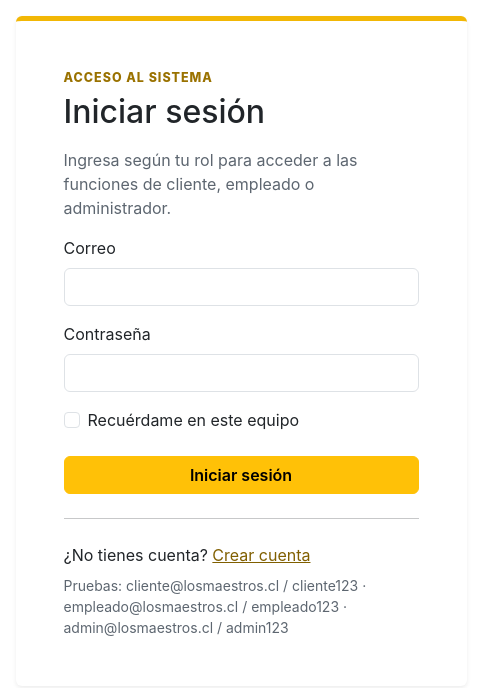
Scenario: Integrante 2 - Login › 14. bloquea credenciales inválidas y muestra el error entregado por la sesión
Type "cliente@losmaestros.cl" into the field labelled "Correo".
click(241, 287); type("cliente@losmaestros.cl")  # box [64,268,418,306]
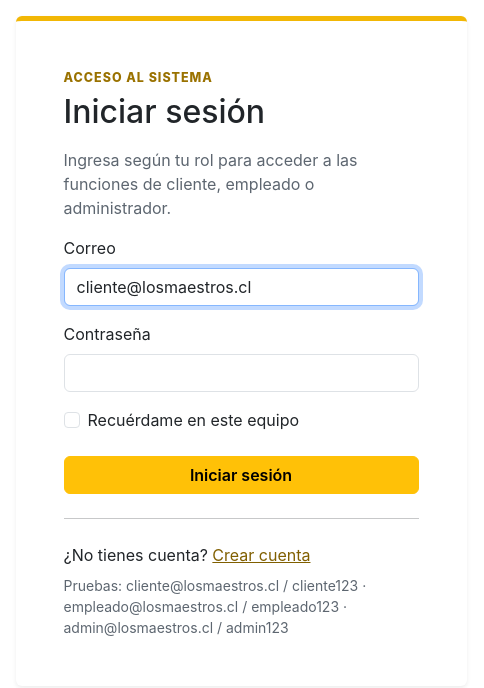
Type "incorrecta" into the password field labelled "Contraseña".
click(241, 373); type("incorrecta")  # box [64,354,418,392]
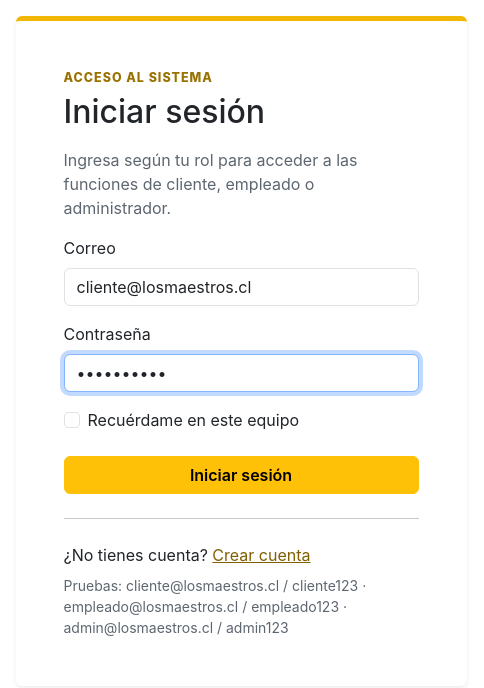
Click the button "Iniciar sesión".
click(241, 475)  # box [64,456,418,494]
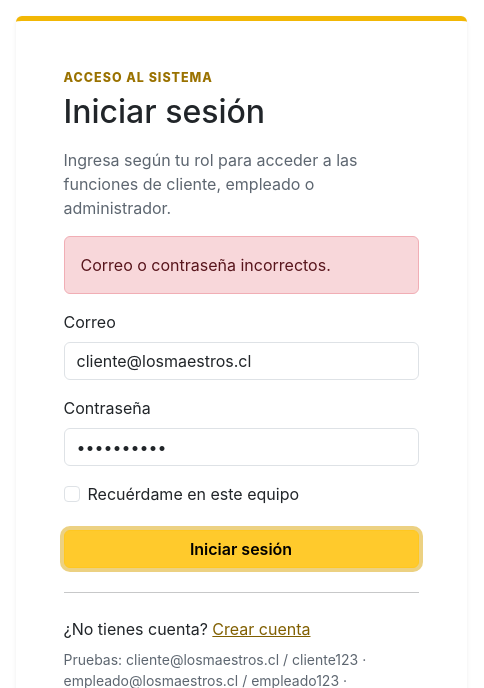
expect the text "Correo o contraseña incorrectos." is shown: met, box [64,236,418,294]
